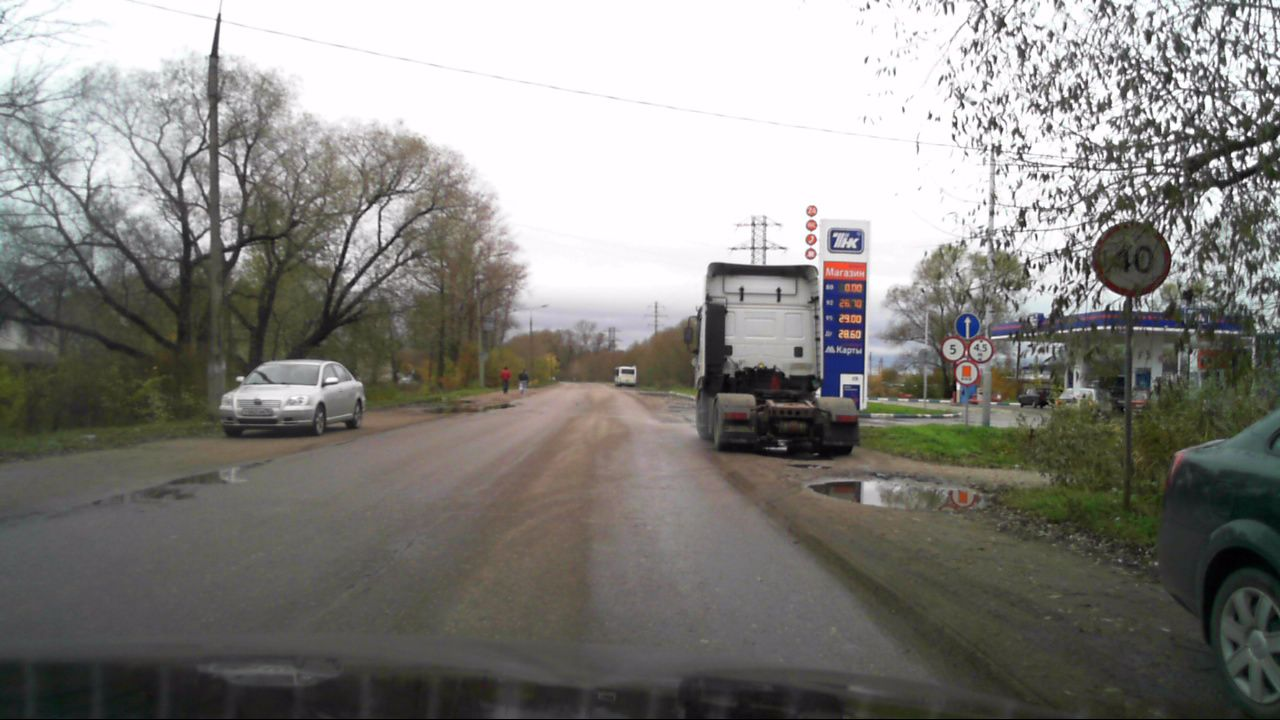speed_warning_40: (1090, 221, 1171, 296)
